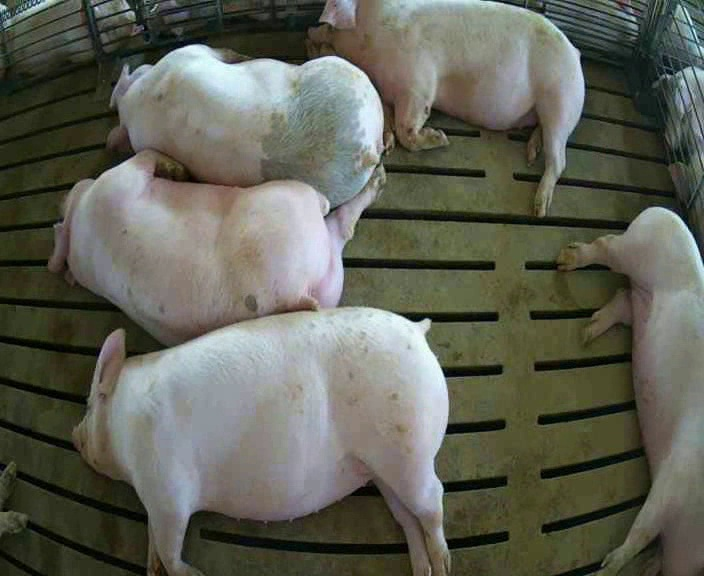pig: (74, 307, 447, 574), (49, 150, 384, 345), (309, 2, 584, 213), (558, 207, 703, 573), (107, 40, 382, 206)
